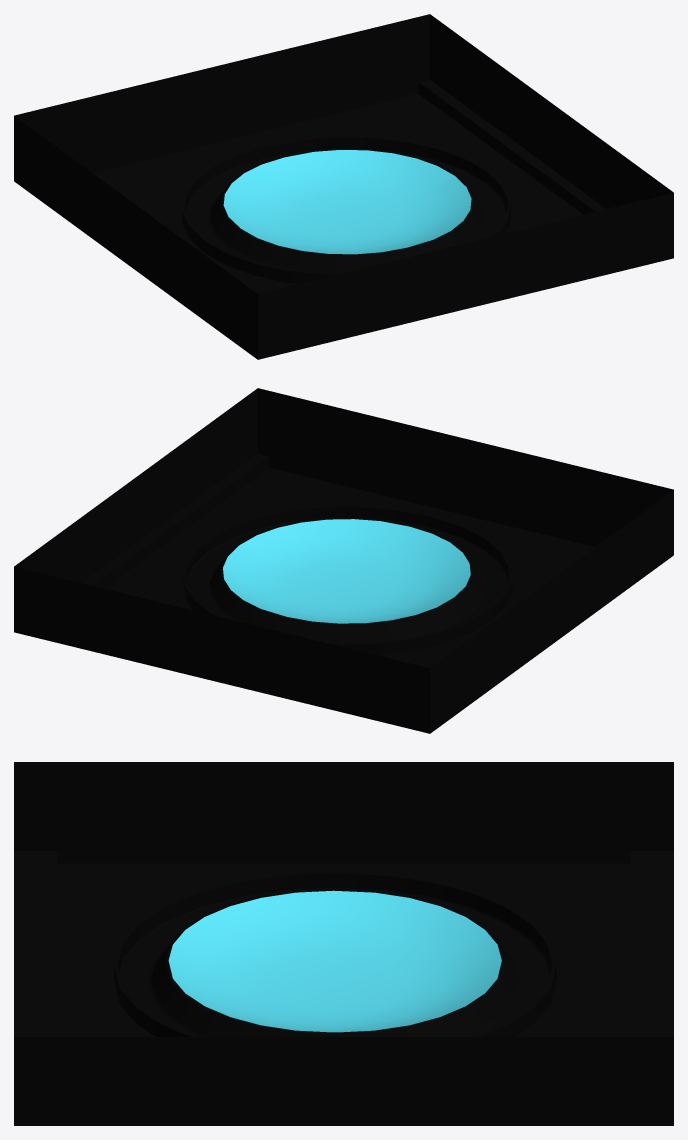
The model's file is SM_RoofLight_020.FBX.
The picture shows the model from 3 angles, top to bottom: view 1: azimuth 30°, elevation 25°; view 2: azimuth 150°, elevation 25°; view 3: azimuth 270°, elevation 25°; orthographic projection. The views are drawn at different scales.
Visible parts, largest first — view 1: SM_RoofLight_020; view 2: SM_RoofLight_020; view 3: SM_RoofLight_020.
Boxes of the visible parts, left/top/right/bottom form: SM_RoofLight_020: left=14, top=14, right=673, bottom=359; SM_RoofLight_020: left=14, top=388, right=673, bottom=733; SM_RoofLight_020: left=14, top=762, right=673, bottom=1125.
Bounding box in the file's own units: 23.78 × 24.15 × 3.59.
